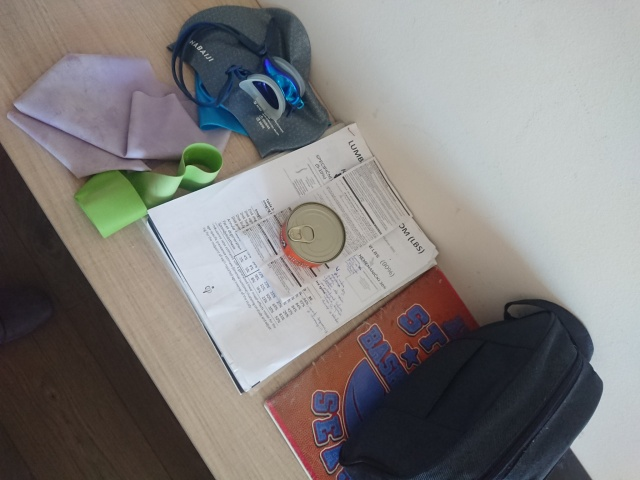Gavrilovic Pork Liver Pate 100g: (277, 199, 348, 269)
